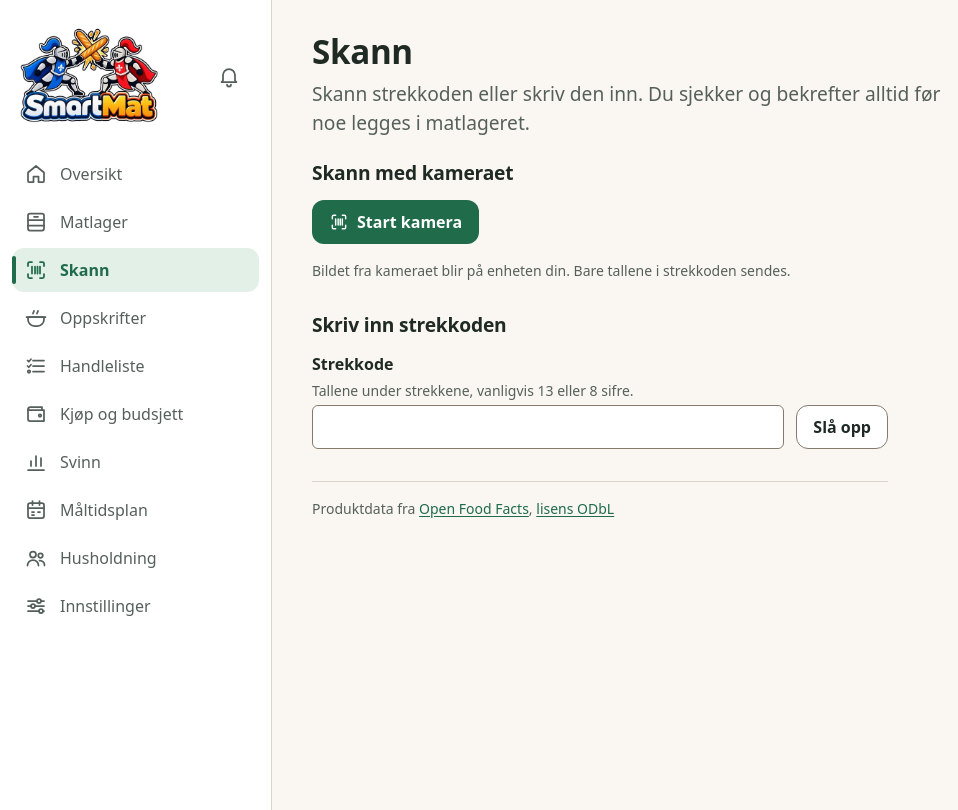
FR-SCAN-001 camera states › NotFoundError → "Fant ikke noe kamera", and the code can still be typed
This screenshot has width=958, height=810.
Click the button "Start kamera".
click(396, 222)  # box [312,200,479,244]
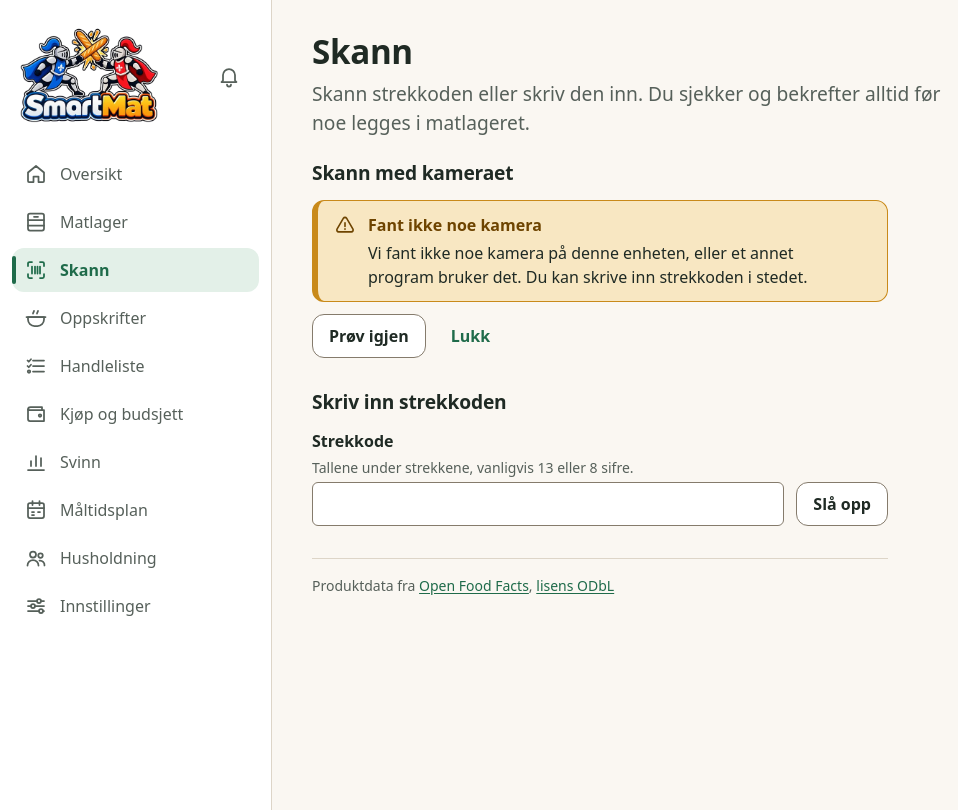
expect the field labelled "Strekkode" is shown: met, box [312,482,784,526]
expect the text "Fant ikke noe kamera" is shown: met, box [368,214,542,236]
expect the text "Du kan skrive inn strekkoden i stedet" is shown: met, box [526,266,808,288]
